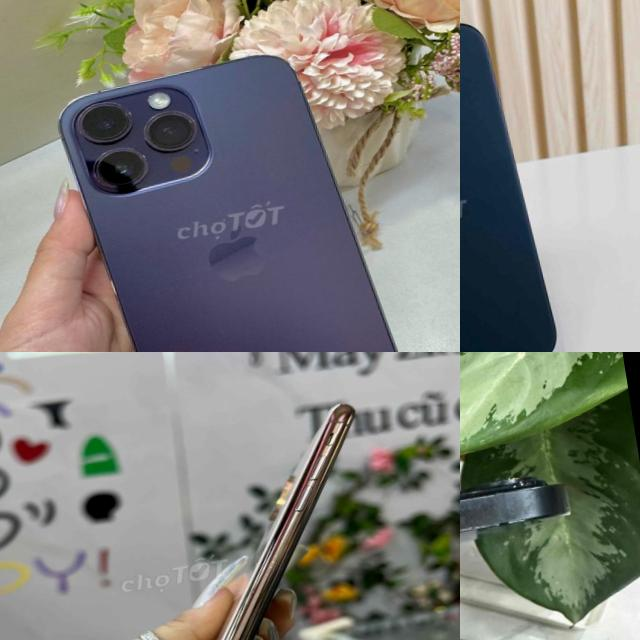gen_14: (41, 26, 426, 352), (460, 468, 587, 594)
gen_15: (460, 11, 575, 352)
gen_x_xs: (109, 399, 413, 640)
scratch: (460, 481, 577, 577)
